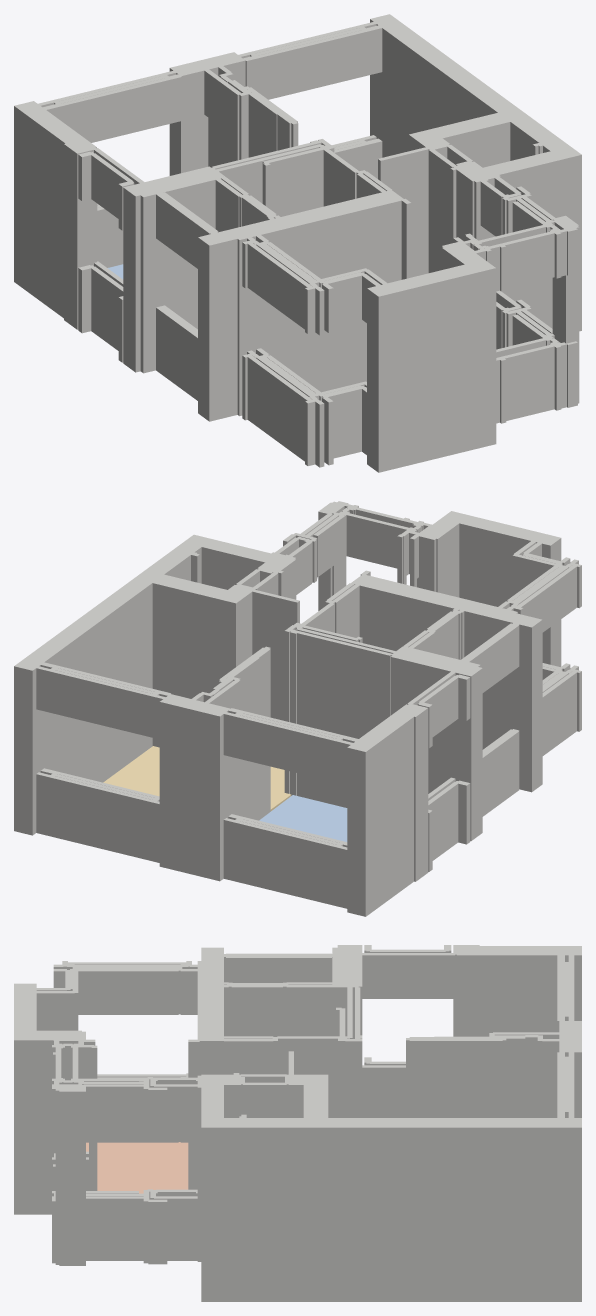
3 views of the same model, one above another, from view 1: azimuth 30°, elevation 25°; view 2: azimuth 150°, elevation 25°; view 3: azimuth 270°, elevation 25° (orthographic). The views are drawn at different scales.
Visible parts, largest first — view 1: walls; view 2: walls, room:bedroom:0, room:living:1; view 3: walls, room:kitchen:5.
Part boxes in pixels (x1,y1,x2,y2): walls: [14, 14, 581, 472]; walls: [14, 501, 581, 916]; room:bedroom:0: [259, 795, 347, 841]; room:living:1: [103, 746, 291, 811]; walls: [14, 945, 581, 1301]; room:kitchen:5: [86, 1142, 188, 1193].
Size of the model in its own units: 6.28 by 2.8 by 8.27.
